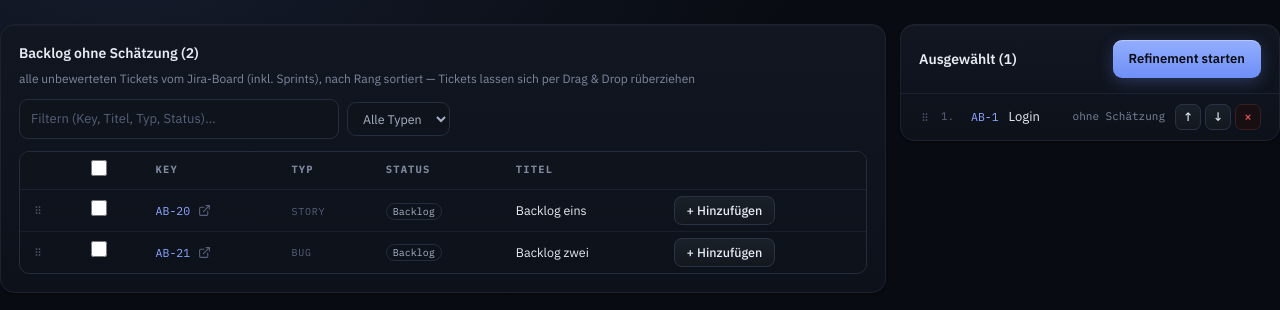
Scenario: RefinementDraft › wählt über die Kopf-Checkbox alle Backlog-Tickets aus
Check: the element with test id "backlog-grid" is shown, box [19, 99, 867, 274]
Click the checkbox named "Alle auswählen": (98, 168) [90, 160, 106, 176]
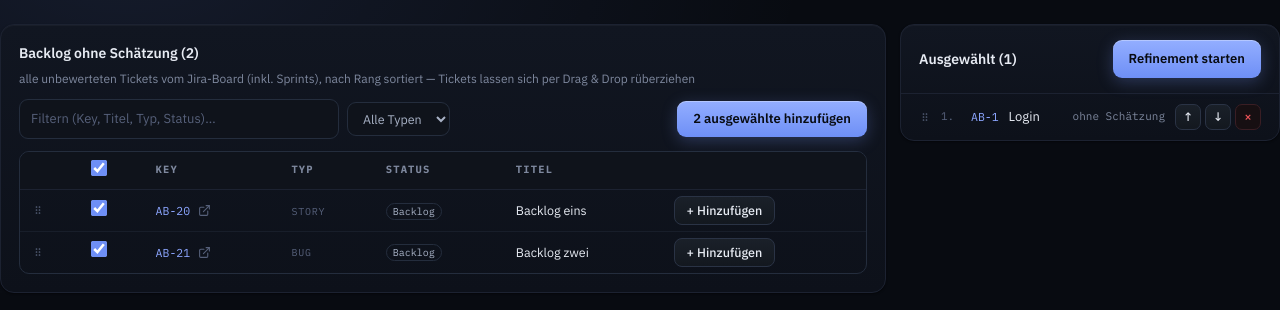
Check: the button "2 ausgewählte hinzufügen" is shown, box [677, 101, 867, 136]
